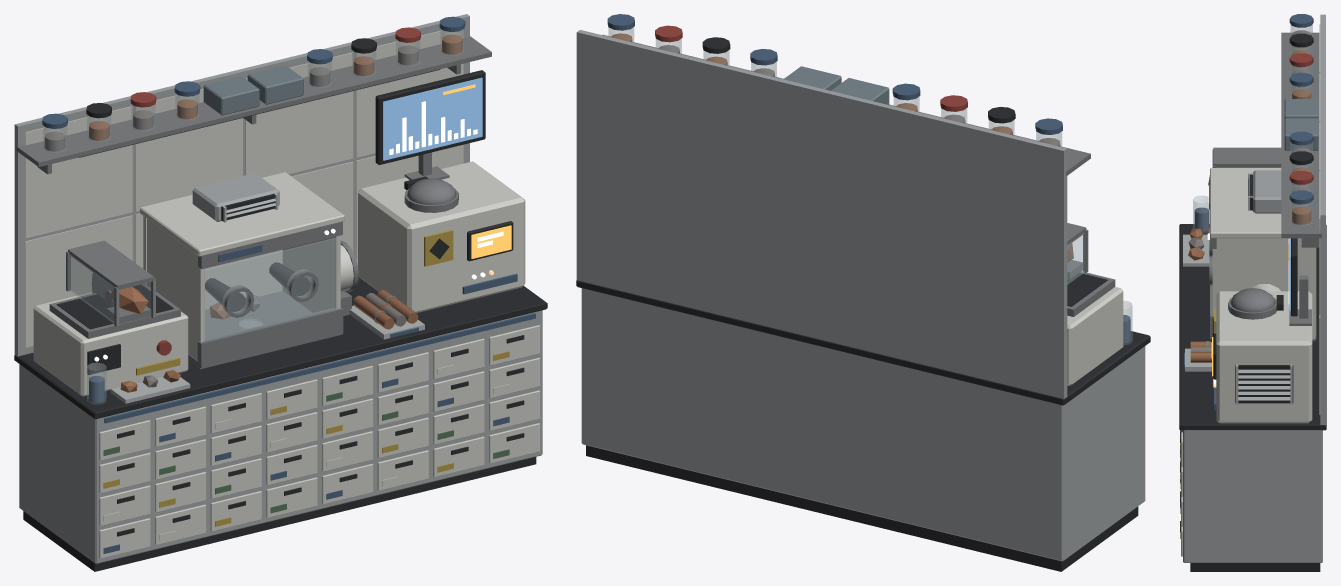
The model's file is astro_rock_analysis_station.fbx.
The picture shows the model from 3 angles, left to right: view 1: azimuth 30°, elevation 25°; view 2: azimuth 150°, elevation 25°; view 3: azimuth 270°, elevation 25°; orthographic projection. The views are drawn at different scales.
Visible parts, largest first — view 1: RockAnalysisStation_Body; view 2: RockAnalysisStation_Body; view 3: RockAnalysisStation_Body.
Part boxes in pixels (box(x1,y1,x2,y2)): RockAnalysisStation_Body: box(14, 14, 547, 571); RockAnalysisStation_Body: box(576, 14, 1150, 571); RockAnalysisStation_Body: box(1179, 14, 1326, 571).
Bounding box in the file's own units: 425 × 358 × 130.
